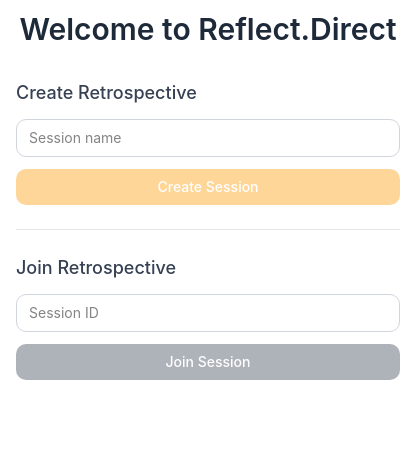
HomePage › shows error when join returns non-ok status
In the field with placeholder "Session ID": (208, 313) 16,294 -> 400,332, type "bad-id"
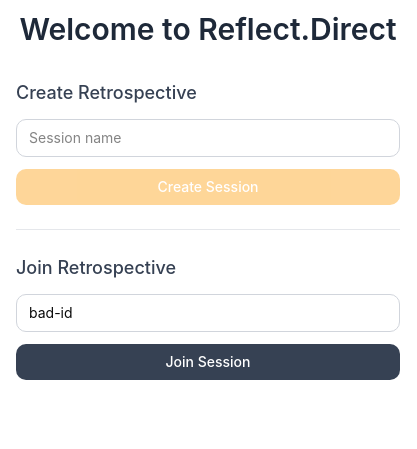
Click the button "Join Session": click(208, 362) 16,344 -> 400,380
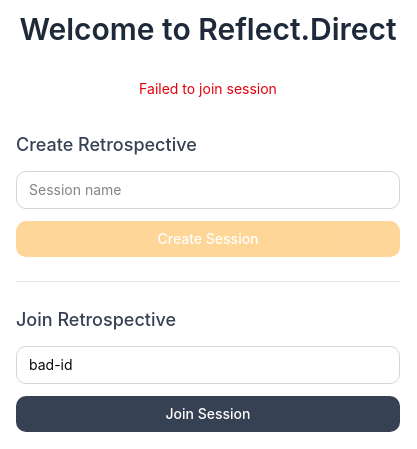
Expected: the text "Failed to join session" is shown, 139,79 -> 277,99
